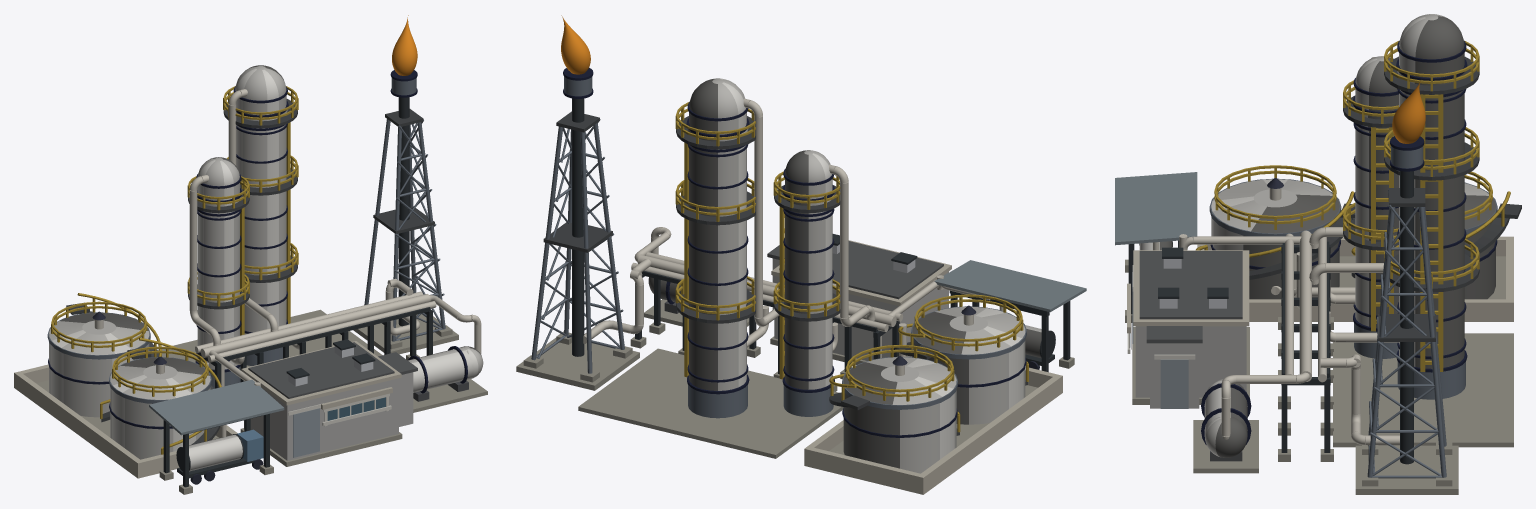
File: petro_refinery_lvl2.glb
3 views of the same model, side by side, from view 1: azimuth 30°, elevation 25°; view 2: azimuth 150°, elevation 25°; view 3: azimuth 270°, elevation 25° (orthographic). The views are drawn at different scales.
Parts seen in each view (by area): view 1: petro_refinery_v2, petro_refinery_v2_Glass; view 2: petro_refinery_v2; view 3: petro_refinery_v2.
Boxes of the visible parts, x1,y1,x2,y2 form: petro_refinery_v2: [14, 15, 487, 494]; petro_refinery_v2_Glass: [327, 397, 385, 420]; petro_refinery_v2: [516, 15, 1086, 494]; petro_refinery_v2: [1115, 14, 1521, 494].
Bounding box in the file's own units: 1 × 0.7811 × 0.7192.
